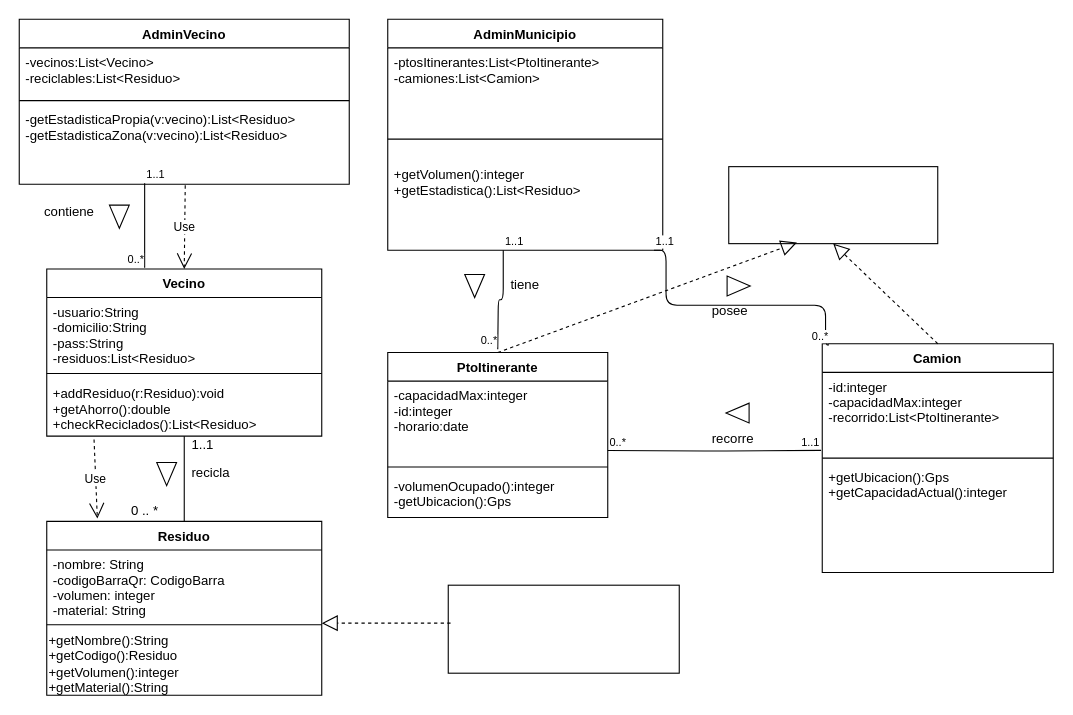
Some shapes in this 1073 by 715 pixel diagram are drawn without their labels. Each missing label, with the centre of its shape:
<<Interface>> CodigoBarra +getCodigo():Residuo: (563,628)
<<Interface>> Gps +getUbicacion():Gps: (833,205)
